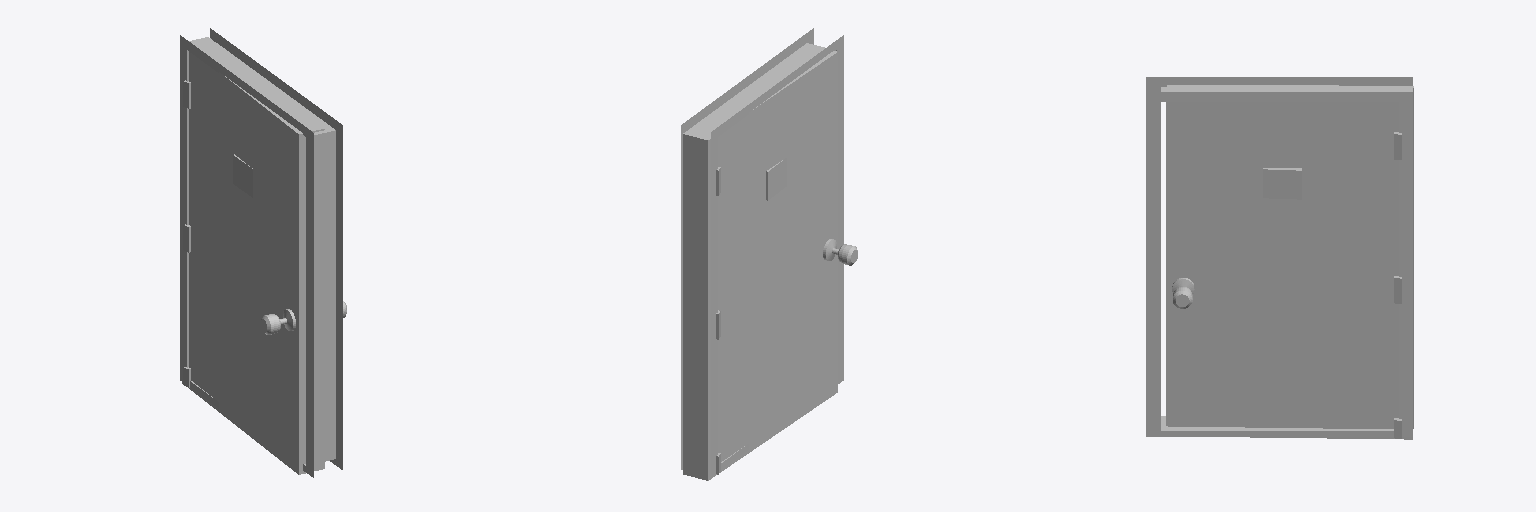
The model's file is Door_1_Open4.obj.
3 renders of one model, left to right at view 1: azimuth 30°, elevation 25°; view 2: azimuth 150°, elevation 25°; view 3: azimuth 270°, elevation 25°, orthographic.
Visible parts, largest first — view 1: Door, Frame_Door; view 2: Door, Frame_Door; view 3: Door, Frame_Door.
Part boxes in pixels (x1,y1,x2,y2): Door: (182,37,346,474); Frame_Door: (180,28,342,477); Door: (683,45,857,480); Frame_Door: (681,28,843,476); Door: (1166,85,1413,439); Frame_Door: (1146,77,1412,438).
Size of the model in its own units: 0.2876 by 1.21 by 0.8429.